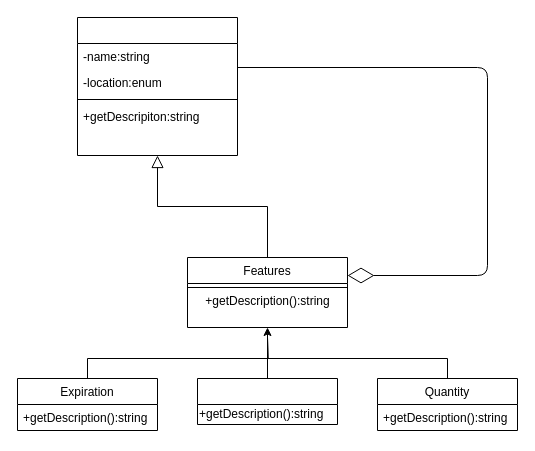
The diagram is 535 pixels wide and 451 high, and some of its shapes have lost their labels. The shapes that lost their labels are listed below. From the top down, each one's box as (x1, y1, x2, y2) in pixels, then its label:
(76, 16, 238, 156): Item
(196, 378, 338, 424): Category
